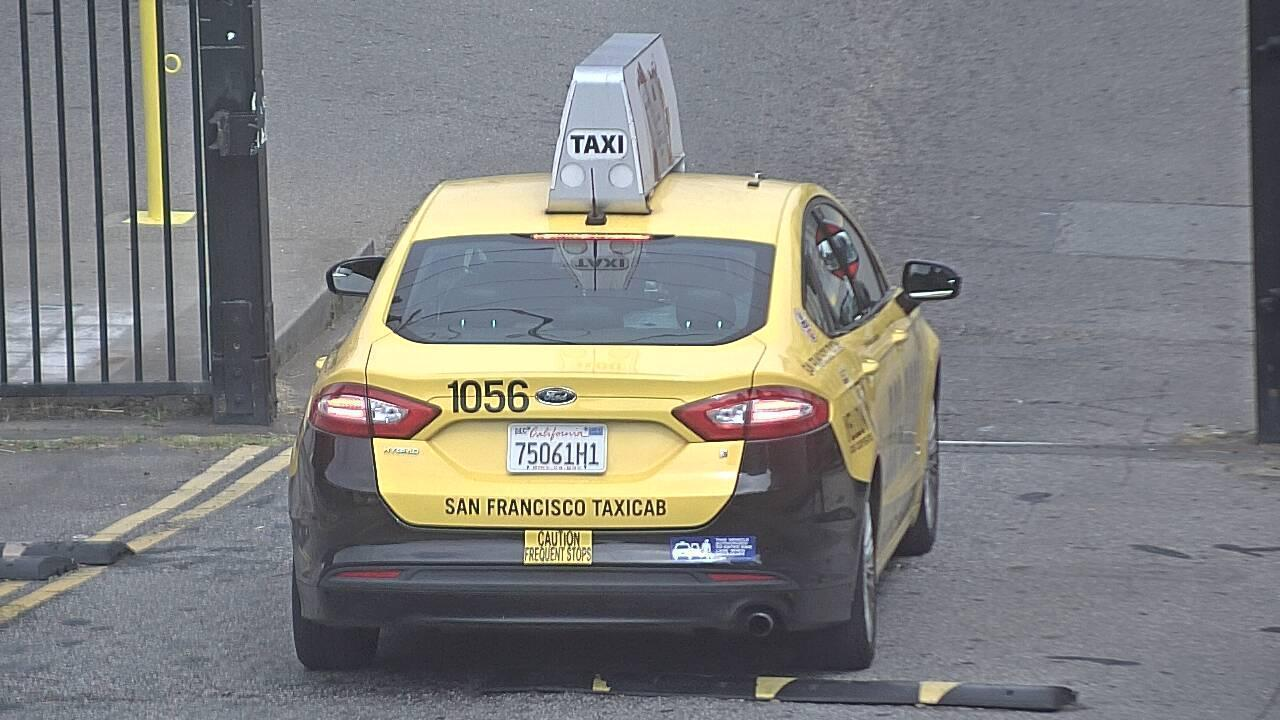placa de veiculo: (492, 410, 628, 485)
